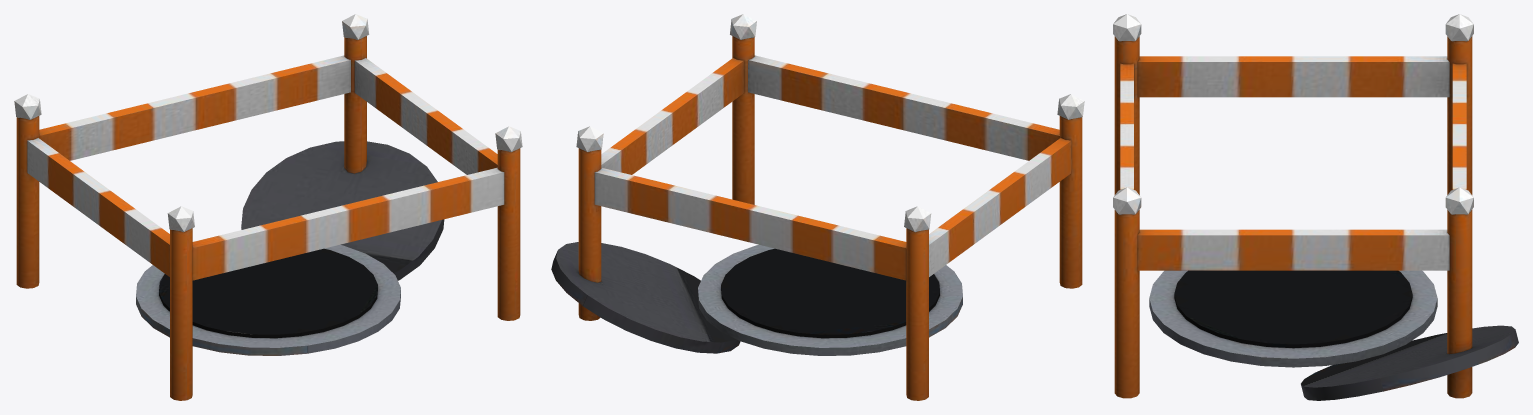
File: alcantarilla.glb
3 views of the same model, side by side, from view 1: azimuth 30°, elevation 25°; view 2: azimuth 150°, elevation 25°; view 3: azimuth 270°, elevation 25° (orthographic). The views are drawn at different scales.
Parts seen in each view (by area): view 1: alcantarilla; view 2: alcantarilla; view 3: alcantarilla.
Part boxes in pixels (box(x1,y1,x2,y2)): alcantarilla: box(14, 14, 522, 400); alcantarilla: box(551, 14, 1084, 400); alcantarilla: box(1113, 14, 1518, 400).
Size of the model in its own units: 1.76 by 0.9486 by 1.46.
Materials: 1 (1 with a texture image).
